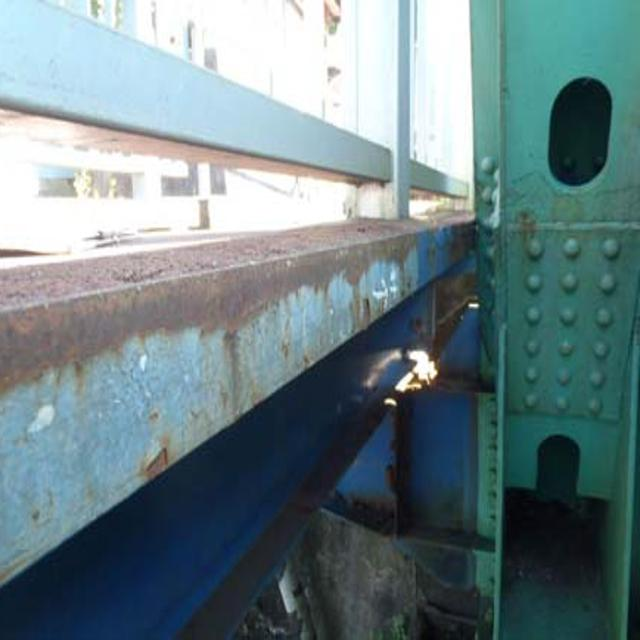corrosion: (10, 201, 489, 373)
